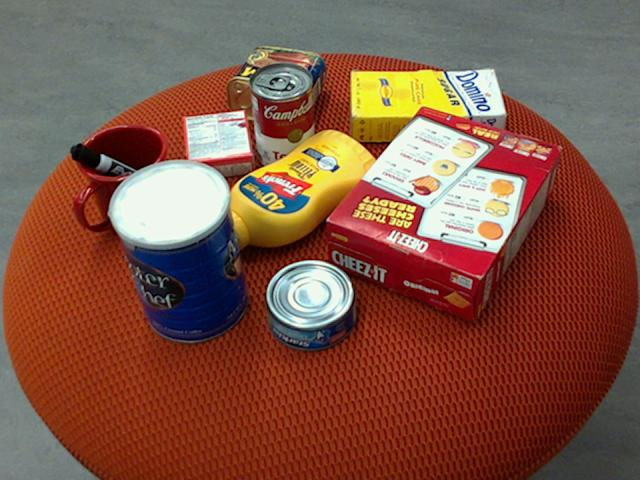cracker_box: (326, 105, 564, 320)
gelatin_box: (182, 108, 253, 181)
large_marker: (69, 143, 171, 201)
master_chef_can: (105, 160, 248, 344)
mug: (75, 123, 175, 233)
mustard_bottle: (206, 129, 381, 250)
potted_meat_can: (227, 46, 327, 126)
sugar_box: (349, 68, 508, 142)
tomato_soup_can: (249, 61, 315, 171)
tuna_fish_can: (266, 260, 358, 352)
